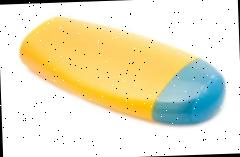plastic: (17, 9, 226, 130)
